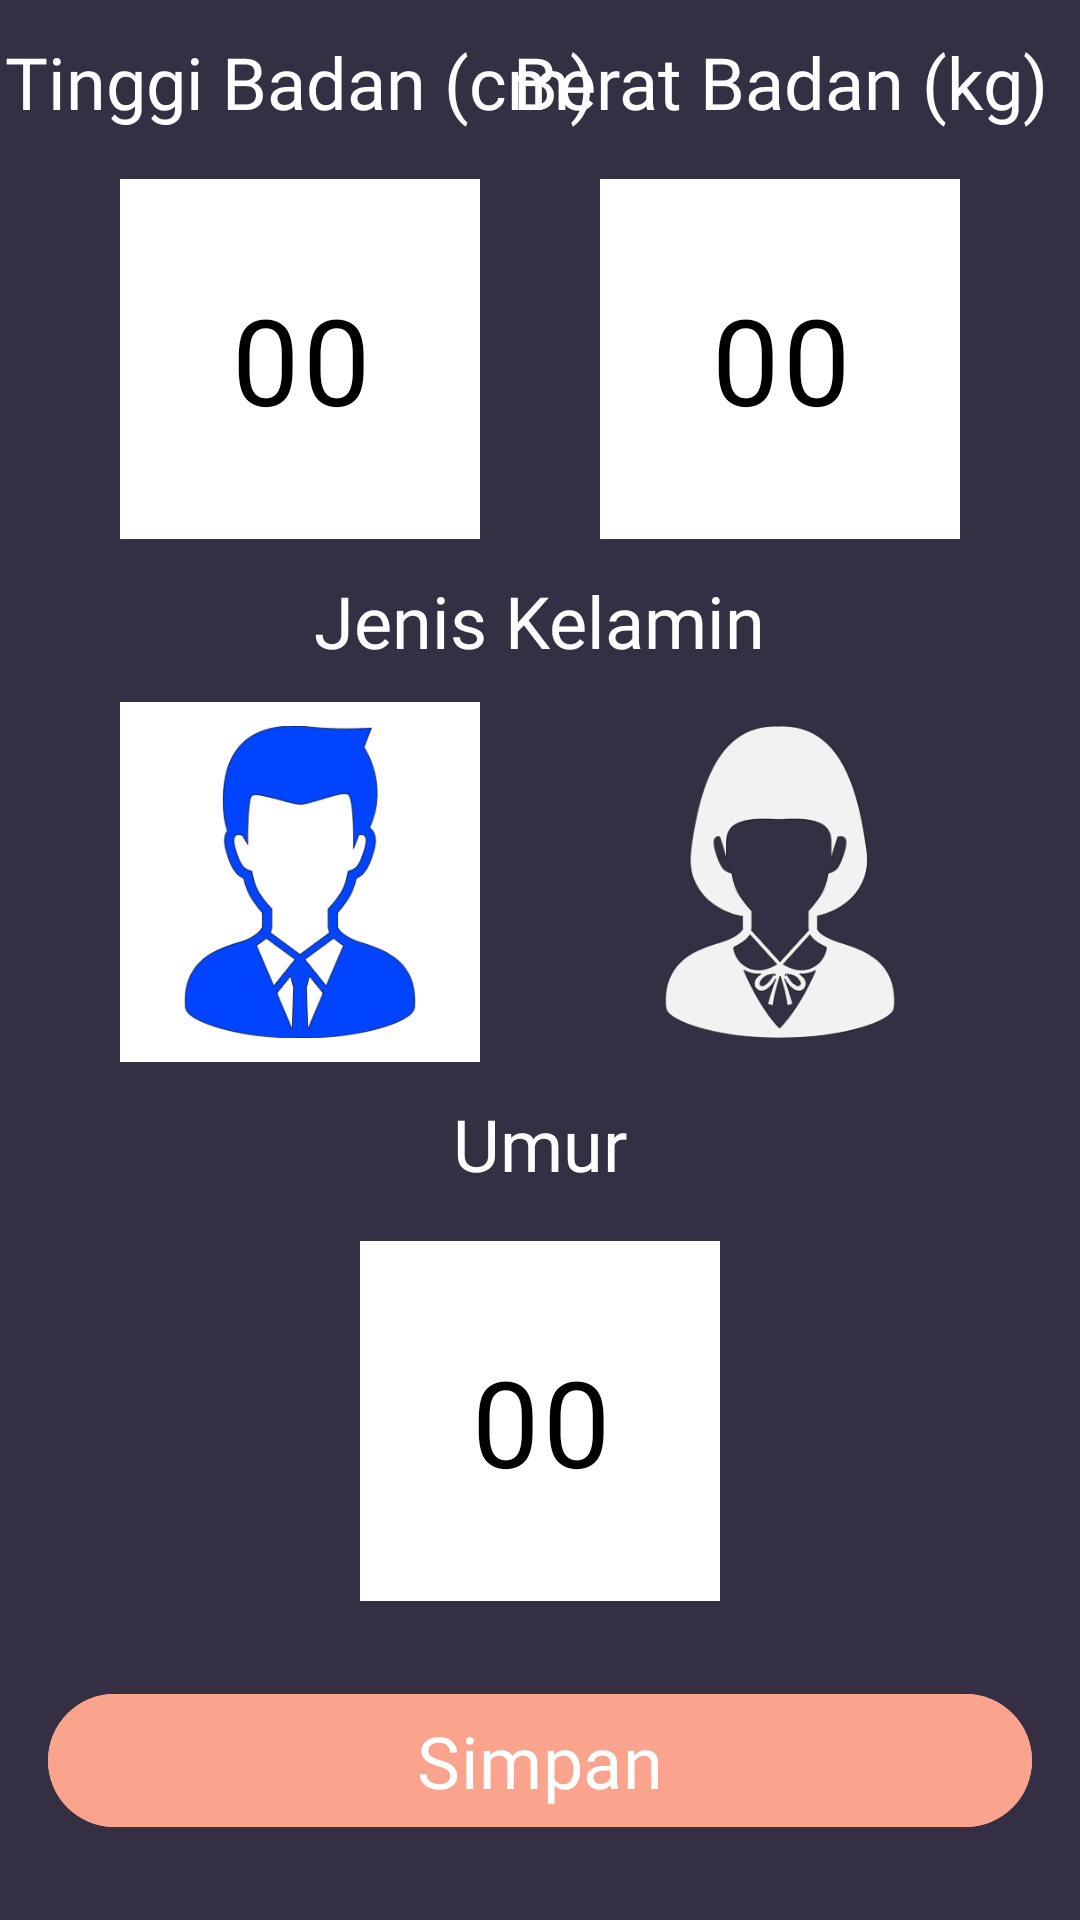

Named icons in this screenshot (1080w x 1920h) and their centers, (x=x, y=y):
female: (x=780, y=882)
male: (x=300, y=882)
